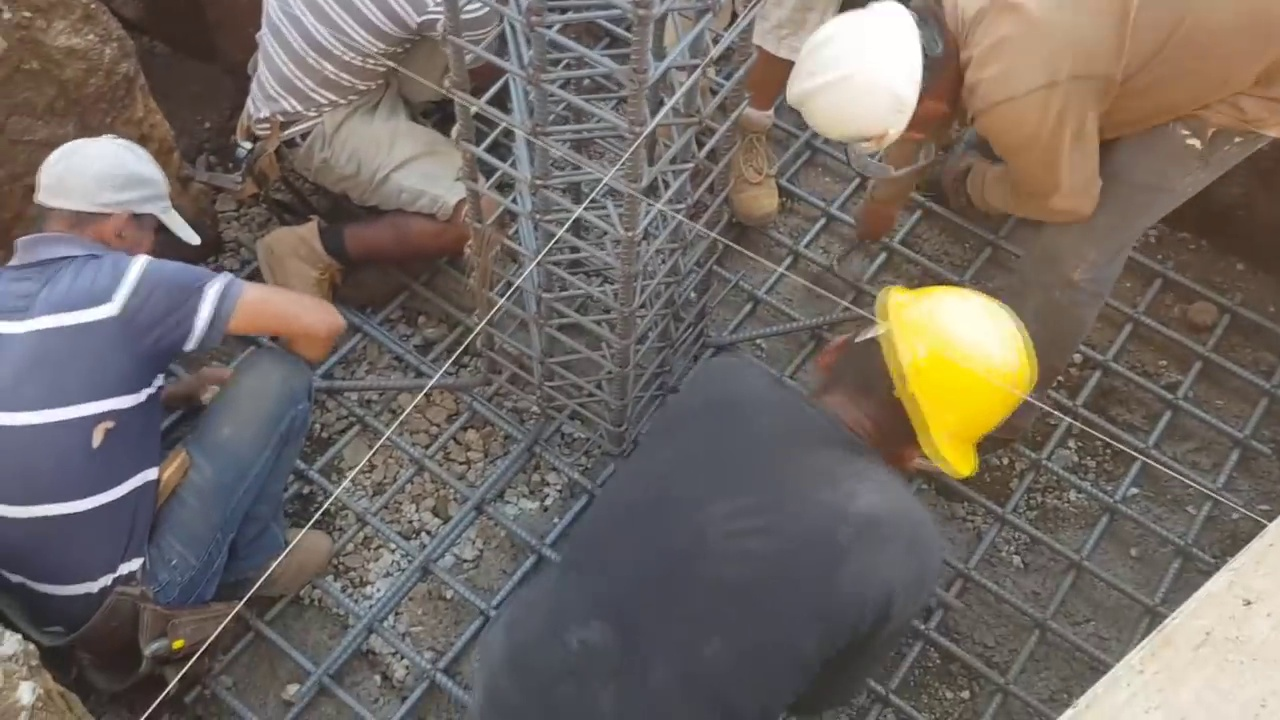helmet: (871, 289, 1040, 475), (785, 6, 924, 158)
helmet-off: (3, 132, 197, 266)
helmet-on: (812, 288, 1051, 473), (780, 1, 968, 189)
person: (487, 285, 1048, 719), (774, 0, 1280, 412), (4, 111, 365, 682), (227, 2, 522, 332)
